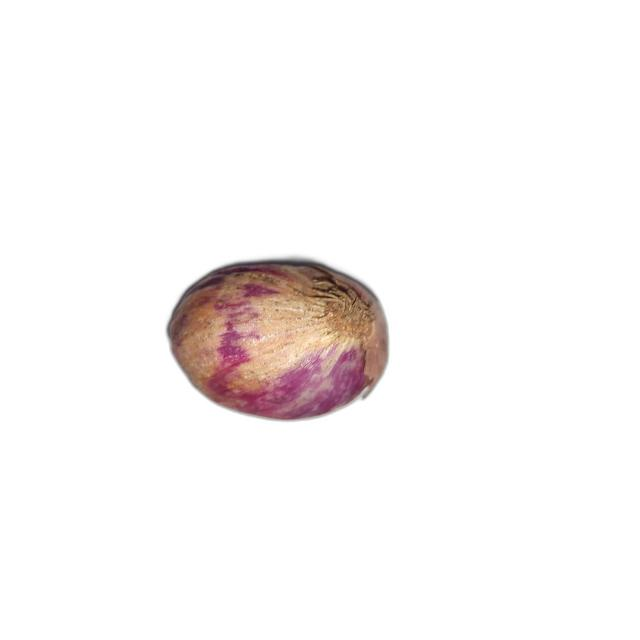onion: (165, 257, 392, 423)
